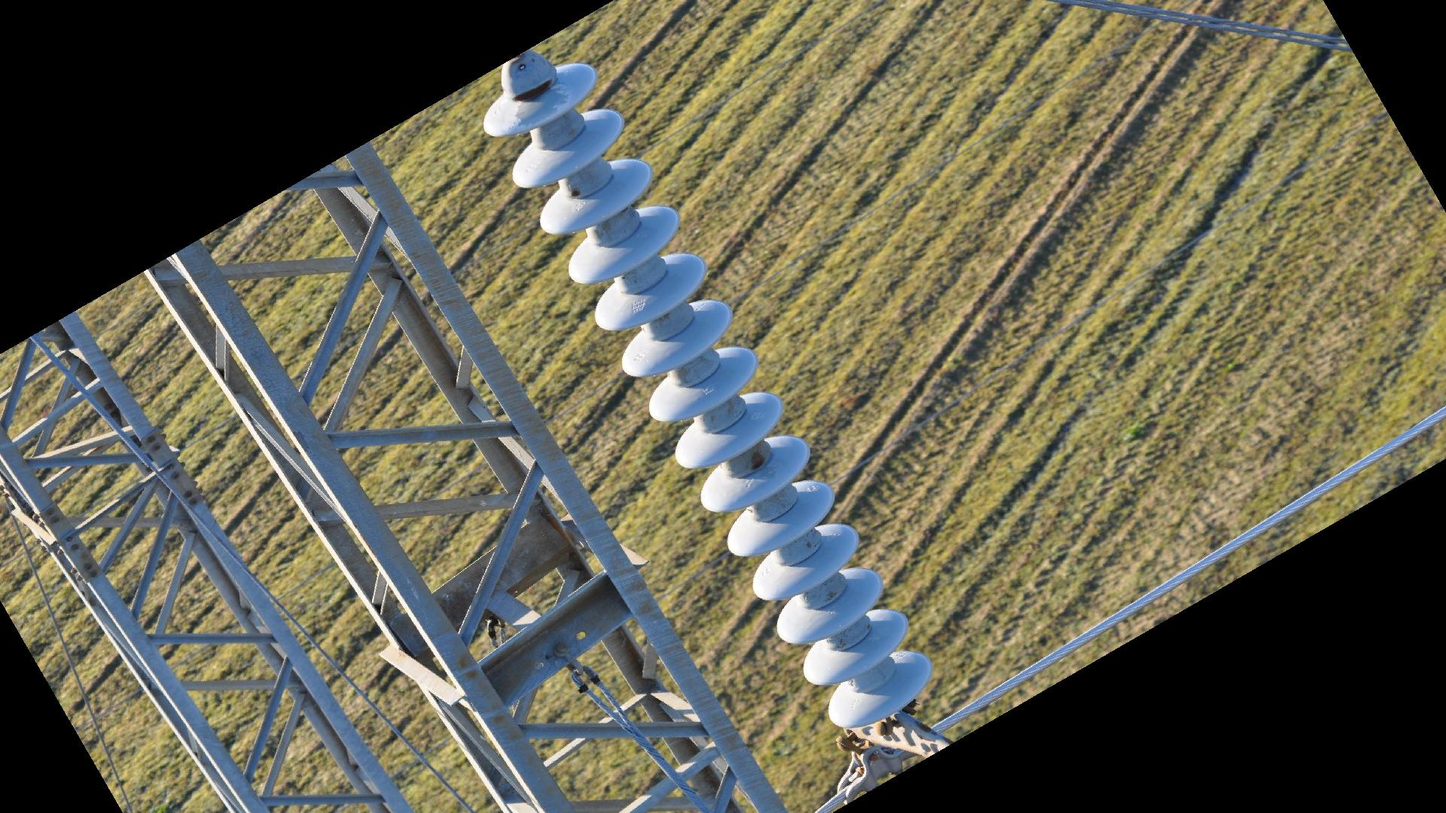insulator: (478, 56, 938, 738)
insulator_flashover: (511, 83, 570, 133)
